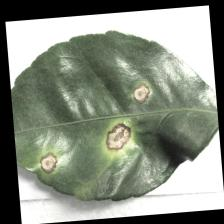canker: (28, 77, 154, 187)
